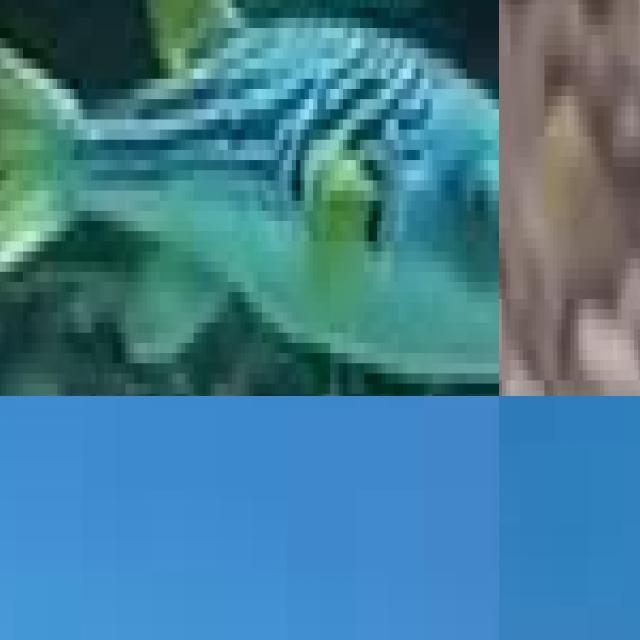fish: (0, 0, 499, 396), (499, 0, 640, 167)
